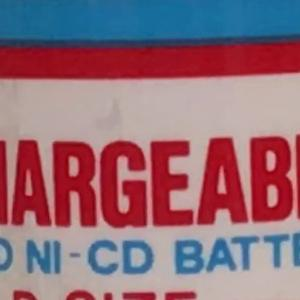NI-CD: (16, 230, 164, 284)
